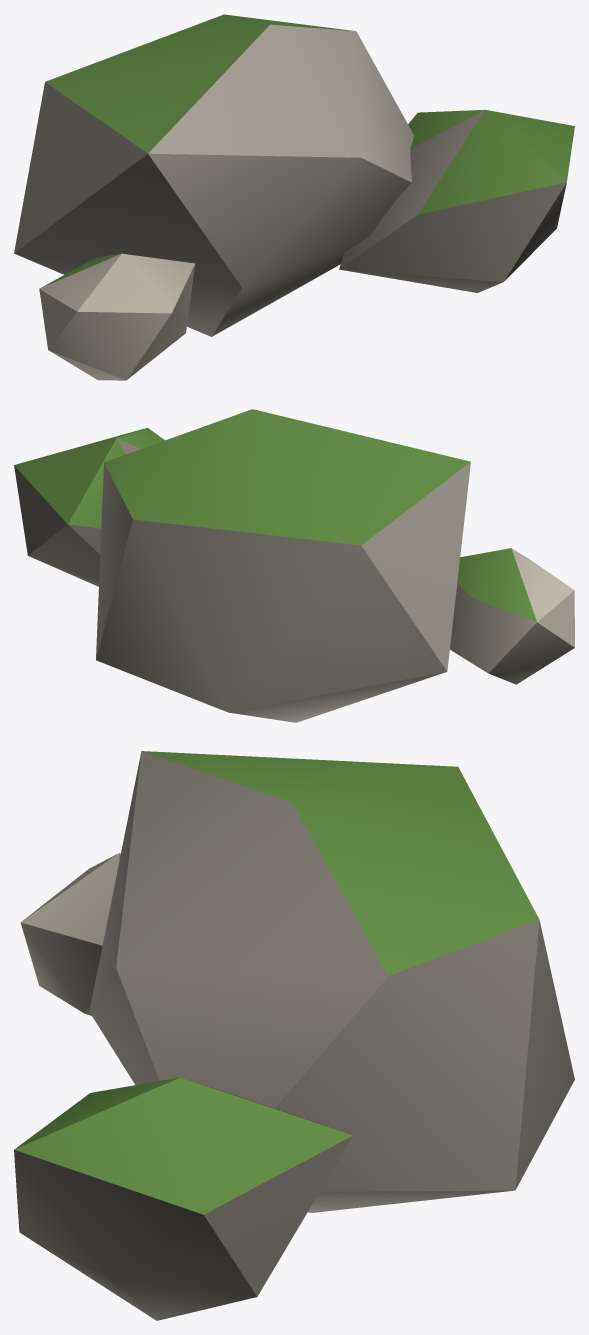
Rendered from rock_small.glb.
3 renders of one model, top to bottom at view 1: azimuth 30°, elevation 25°; view 2: azimuth 150°, elevation 25°; view 3: azimuth 270°, elevation 25°, orthographic. The views are drawn at different scales.
Visible parts, largest first — view 1: rock_small; view 2: rock_small; view 3: rock_small.
Boxes of the visible parts, x1=… form: rock_small: x1=14, y1=14, x2=574, y2=380; rock_small: x1=14, y1=409, x2=574, y2=722; rock_small: x1=14, y1=751, x2=574, y2=1320.
Bounding box in the file's own units: 0.7299 × 0.3854 × 0.4381.
